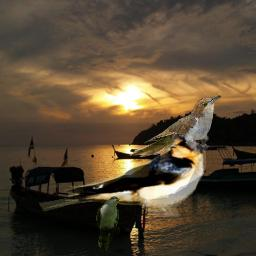Cuckoo: (129, 95, 221, 157), (96, 196, 120, 252)
Swallow: (39, 130, 206, 217)
